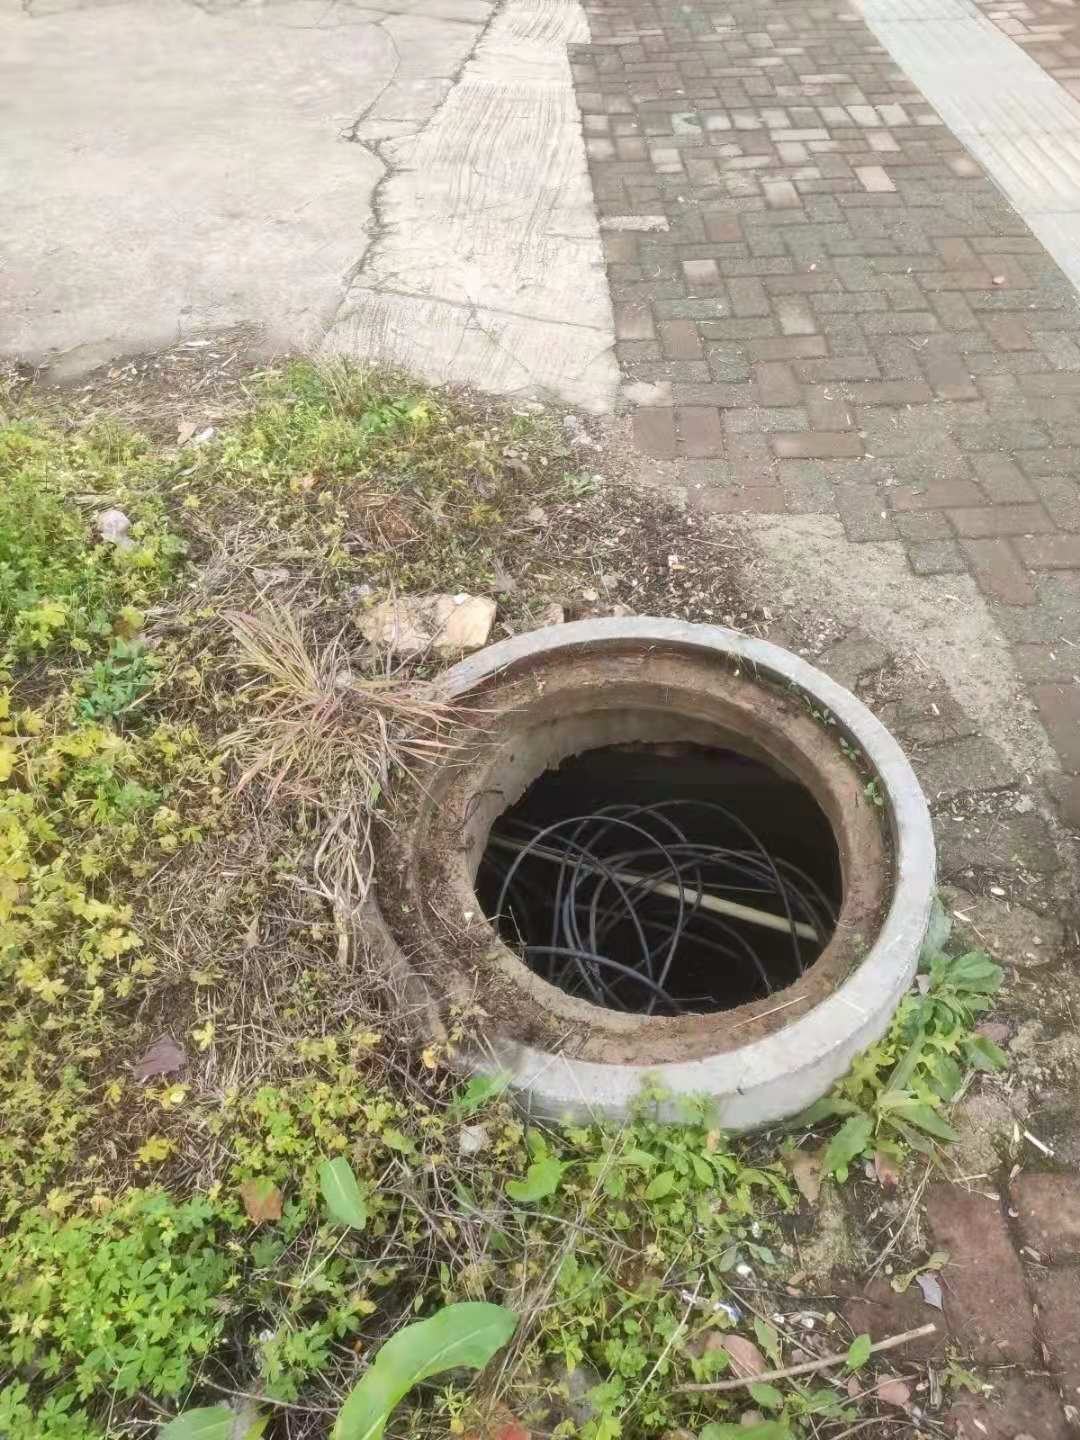lose: (335, 617, 937, 1135)
